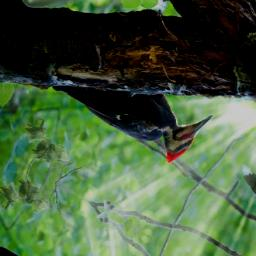Woodpecker: (48, 33, 215, 177)
